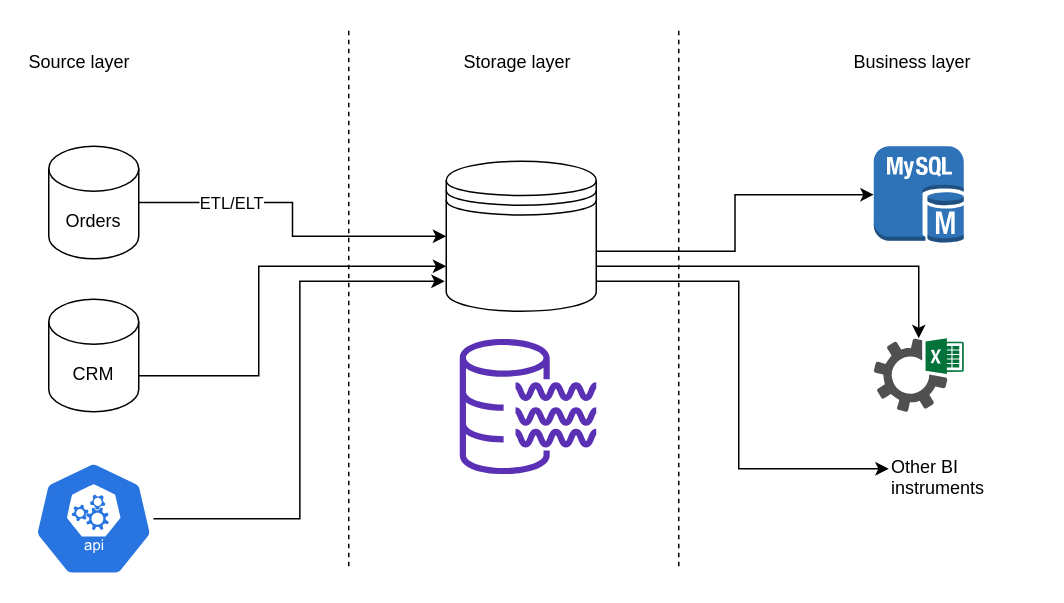
Image size: 1064x603. Some labels were removed from this diagram. The shapes that lost their labels are listed below. From the top down, each one's centre as x and y in pixels, then its label:
(x=520, y=235): Data warehouse 1st priority
(x=527, y=406): Data lake 2nd priority
